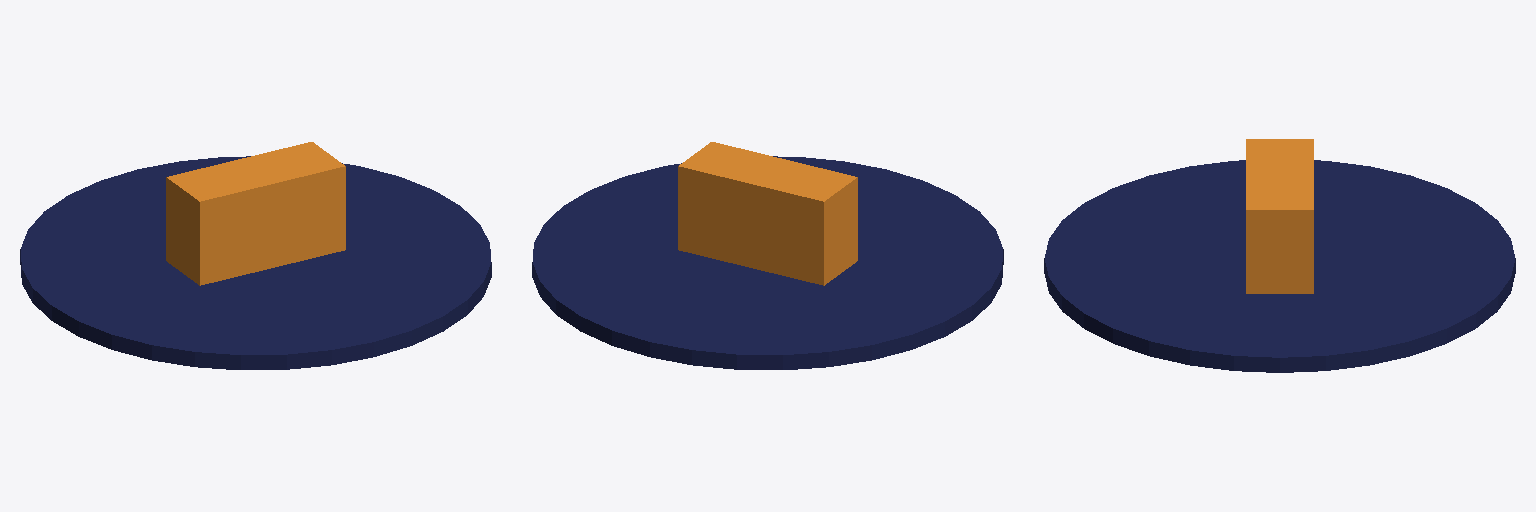
robot.urdf — bowl.urdf:
<?xml version="0.0" ?>
<robot name="bowl.urdf">

  <material name="yellow">
    <color rgba="1 1 0.4 1"/>
  </material>
  <material name="red">
    <color rgba="1 0 0 1"/>
  </material>
  <material name="blue">
    <color rgba=".17 .20 .38 1"/>
  </material>
  <material name="teal">
    <color rgba="0 .5 .5 1"/>
  </material>
  <material name="orange">
    <color rgba=".93 .6 .23 1"/>
  </material>

  <!-- <link name="world"/> -->


  <link name="lid">
    <lateral_friction value="1.0"/>
    <rolling_friction value="0.0"/>
    <contact_cfm value="0.0"/>
    <contact_erp value="1.0"/>
    <inertial>
      <origin rpy="0 0 0" xyz="0.0 0.0 -0.35"/>
       <mass value=".1"/>
       <inertia ixx="1" ixy="0" ixz="0" iyy="1" iyz="0" izz="1"/>
    </inertial>
    <visual>
      <origin rpy="0 0 0" xyz="0 0 0"/>
      <geometry>
        <cylinder radius="0.7" length=".05"/>
      </geometry>
       <material name="blue"/>
    </visual>
    <collision>
      <origin rpy="0 0 0" xyz="0 0 0"/>
      <geometry>
        <cylinder radius="0.7" length=".05"/>
      </geometry>
    </collision>
  </link>

  <link name="handle">
    <lateral_friction value="1.0"/>
    <rolling_friction value="0.0"/>
    <contact_cfm value="0.0"/>
    <contact_erp value="1.0"/>
    <inertial>
      <origin rpy="0 0 0" xyz="0.0 0.0 0.0"/>
       <mass value=".1"/>
       <inertia ixx="1" ixy="0" ixz="0" iyy="1" iyz="0" izz="1"/>
    </inertial>
    <visual>
      <origin rpy="0 0 0" xyz="0 0 0"/>
      <geometry>
        <box size="0.5 0.2 .3"/>
      </geometry>
       <material name="orange"/>
    </visual>
    <collision>
      <origin rpy="0 0 0" xyz="0 0 0"/>
      <geometry>
        <box size="0.5 0.2 .3"/>
      </geometry>
    </collision>
  </link>

  <joint name="handle_joint" type="fixed">
    <origin rpy="0 0 0" xyz="0 0 0.15"/>
    <parent link="lid"/>
    <child link="handle"/>
  </joint>

</robot>

--- Render facts (derived) ---
3 views of the same robot in one strip: view 1: azimuth 30°, elevation 25°; view 2: azimuth 150°, elevation 25°; view 3: azimuth 270°, elevation 25° (orthographic).
Model bowl.urdf with 2 links and 1 joints (1 fixed), rooted at lid, posed every joint at zero.
Links seen in each view (by area): view 1: lid, handle; view 2: lid, handle; view 3: lid, handle.
Link boxes in pixels (left/top/right/bottom): lid: left=20, top=156, right=491, bottom=369; handle: left=166, top=142, right=345, bottom=285; lid: left=532, top=156, right=1003, bottom=369; handle: left=678, top=142, right=857, bottom=285; lid: left=1044, top=160, right=1515, bottom=372; handle: left=1246, top=139, right=1313, bottom=293.
Bounding box of the posed robot: 1.4 × 1.4 × 0.325 m (x, y, z).
Geometry: primitives only (box / cylinder / sphere), no mesh files.